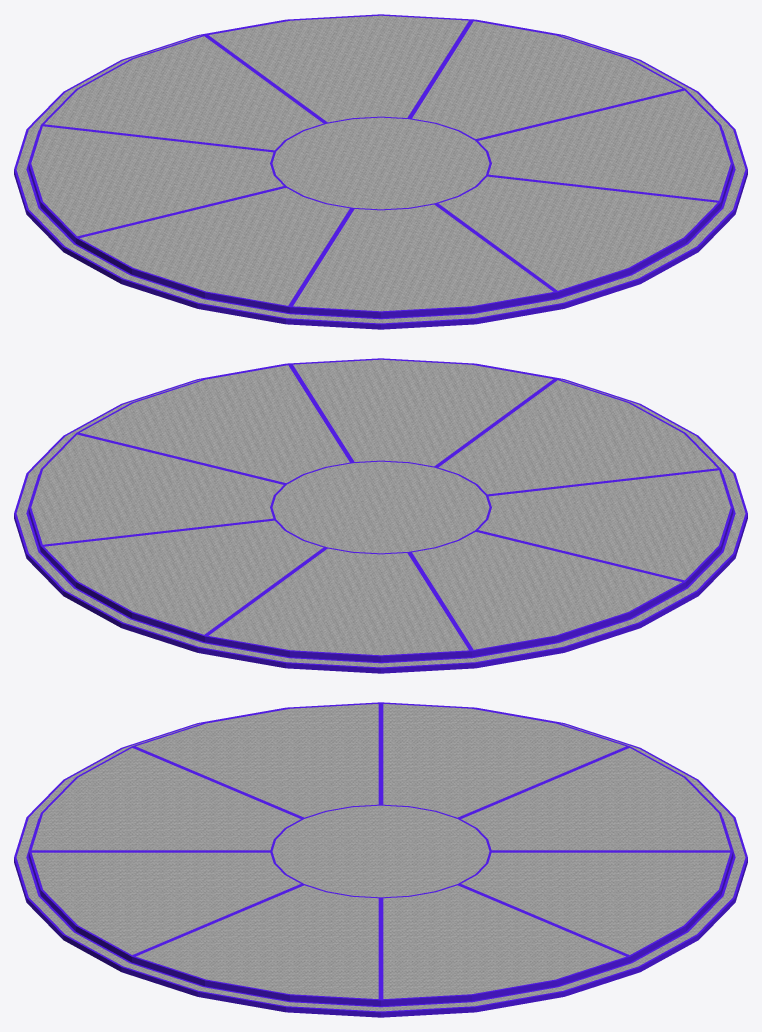
Rendered from addOn_PlatformMetal.dae.
The picture shows the model from 3 angles, top to bottom: view 1: azimuth 30°, elevation 25°; view 2: azimuth 150°, elevation 25°; view 3: azimuth 270°, elevation 25°; orthographic projection.
Visible parts, largest first — view 1: addOn_MetalPlatform (×13); view 2: addOn_MetalPlatform (×13); view 3: addOn_MetalPlatform (×13).
Boxes of the visible parts, x1,y1,x2,y2 form: addOn_MetalPlatform (×13): (14,14,747,329); addOn_MetalPlatform (×13): (14,358,747,673); addOn_MetalPlatform (×13): (14,702,747,1017).
Bounding box in the file's own units: 900 × 900 × 15.
Materials: 2 (1 with a texture image).
